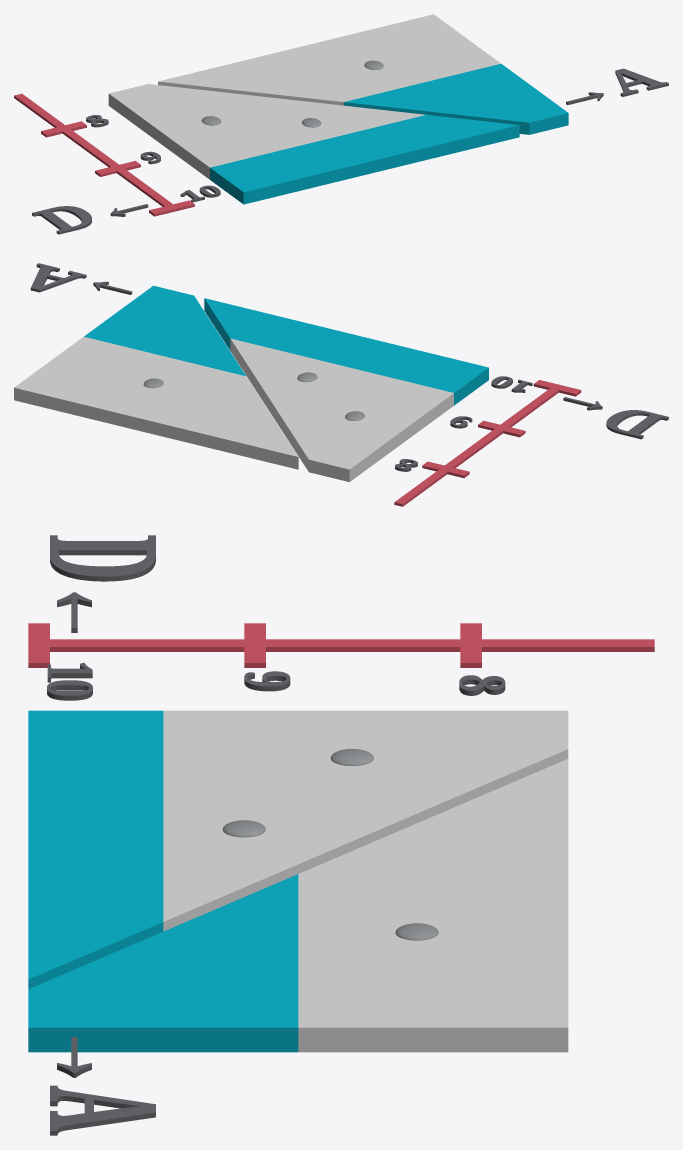
File: tinker (2).glb
3 renders of one model, top to bottom at view 1: azimuth 30°, elevation 25°; view 2: azimuth 150°, elevation 25°; view 3: azimuth 270°, elevation 25°, orthographic. The views are drawn at different scales.
Visible parts, largest first — view 1: Mesh_Mesh_head_geo.001_lambert2SG.001; view 2: Mesh_Mesh_head_geo.001_lambert2SG.001; view 3: Mesh_Mesh_head_geo.001_lambert2SG.001.
Boxes of the visible parts, x1,y1,x2,y2 form: Mesh_Mesh_head_geo.001_lambert2SG.001: (14, 14, 668, 234); Mesh_Mesh_head_geo.001_lambert2SG.001: (14, 263, 668, 506); Mesh_Mesh_head_geo.001_lambert2SG.001: (28, 535, 654, 1135).
Size of the model in its own units: 0.261 by 0.006 by 0.116.
